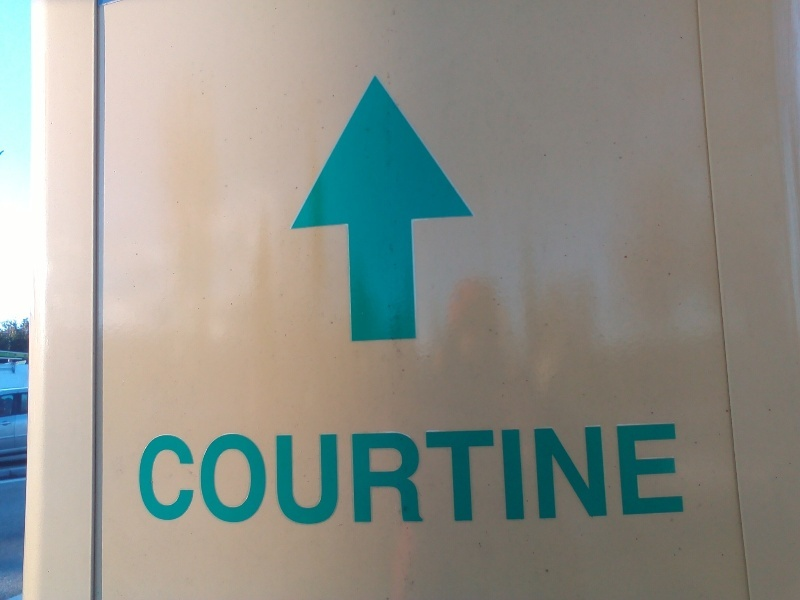text: (145, 422, 160, 531), (161, 422, 176, 531), (177, 422, 192, 531), (193, 422, 208, 531), (209, 422, 224, 531), (225, 422, 240, 531), (241, 422, 256, 531), (257, 422, 272, 531), (273, 422, 288, 531), (289, 422, 304, 531), (305, 422, 320, 531), (321, 422, 336, 531), (337, 422, 352, 531), (353, 422, 368, 531), (369, 422, 384, 531), (385, 422, 400, 531), (401, 422, 416, 531), (417, 422, 432, 531), (433, 422, 448, 531), (449, 422, 464, 531), (465, 422, 480, 531), (481, 422, 496, 531), (497, 422, 512, 531), (513, 422, 528, 531), (529, 422, 544, 531), (545, 422, 560, 531), (561, 422, 576, 531), (577, 422, 592, 531), (593, 422, 608, 531), (609, 422, 624, 531), (625, 422, 640, 531), (641, 422, 656, 531), (657, 422, 672, 531), (673, 422, 688, 531), (139, 422, 144, 531)
